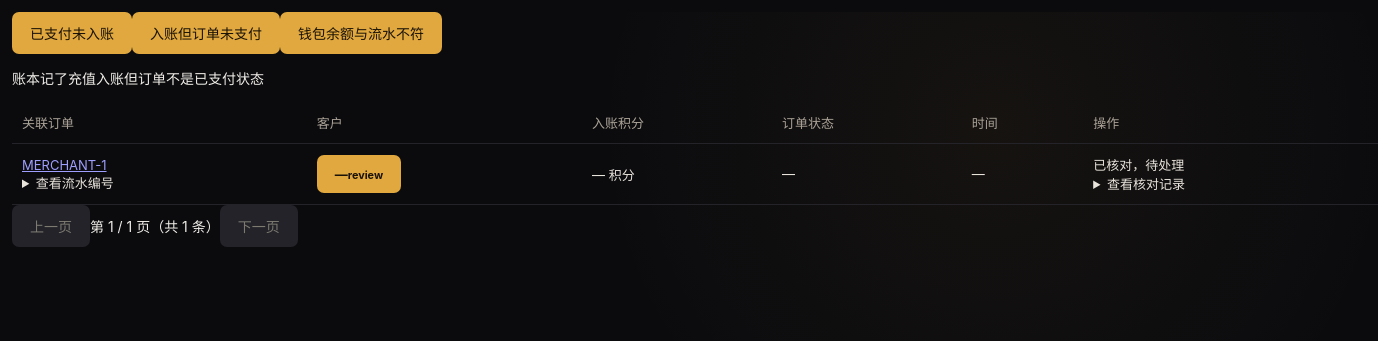
Test: 审计员可看核对历史，没有人工核对写入口
Check: the text "已核对，待处理" is shown, box [1093,157,1184,173]
Click the heading "查看核对记录". click: (1146, 184)
box: [1107,176,1185,192]
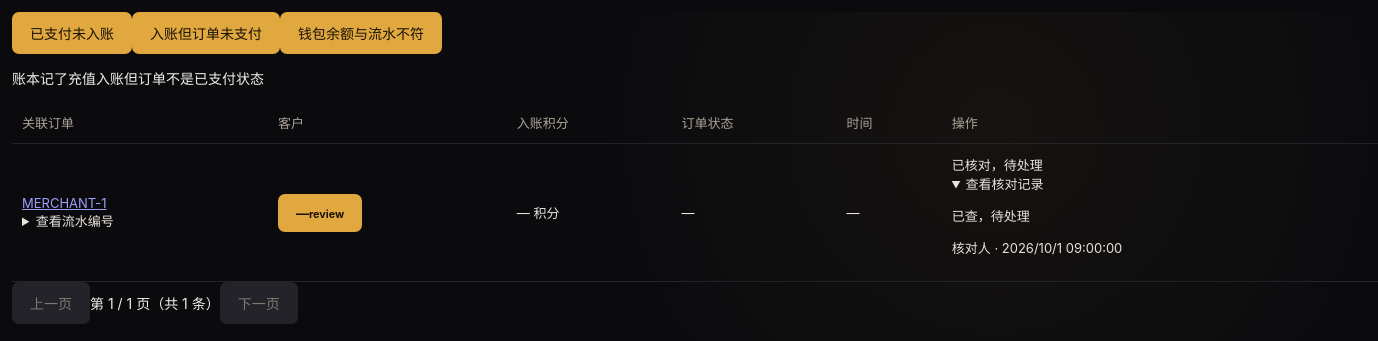
Check: the text "已查，待处理" is shown, box [952,208,1030,224]
